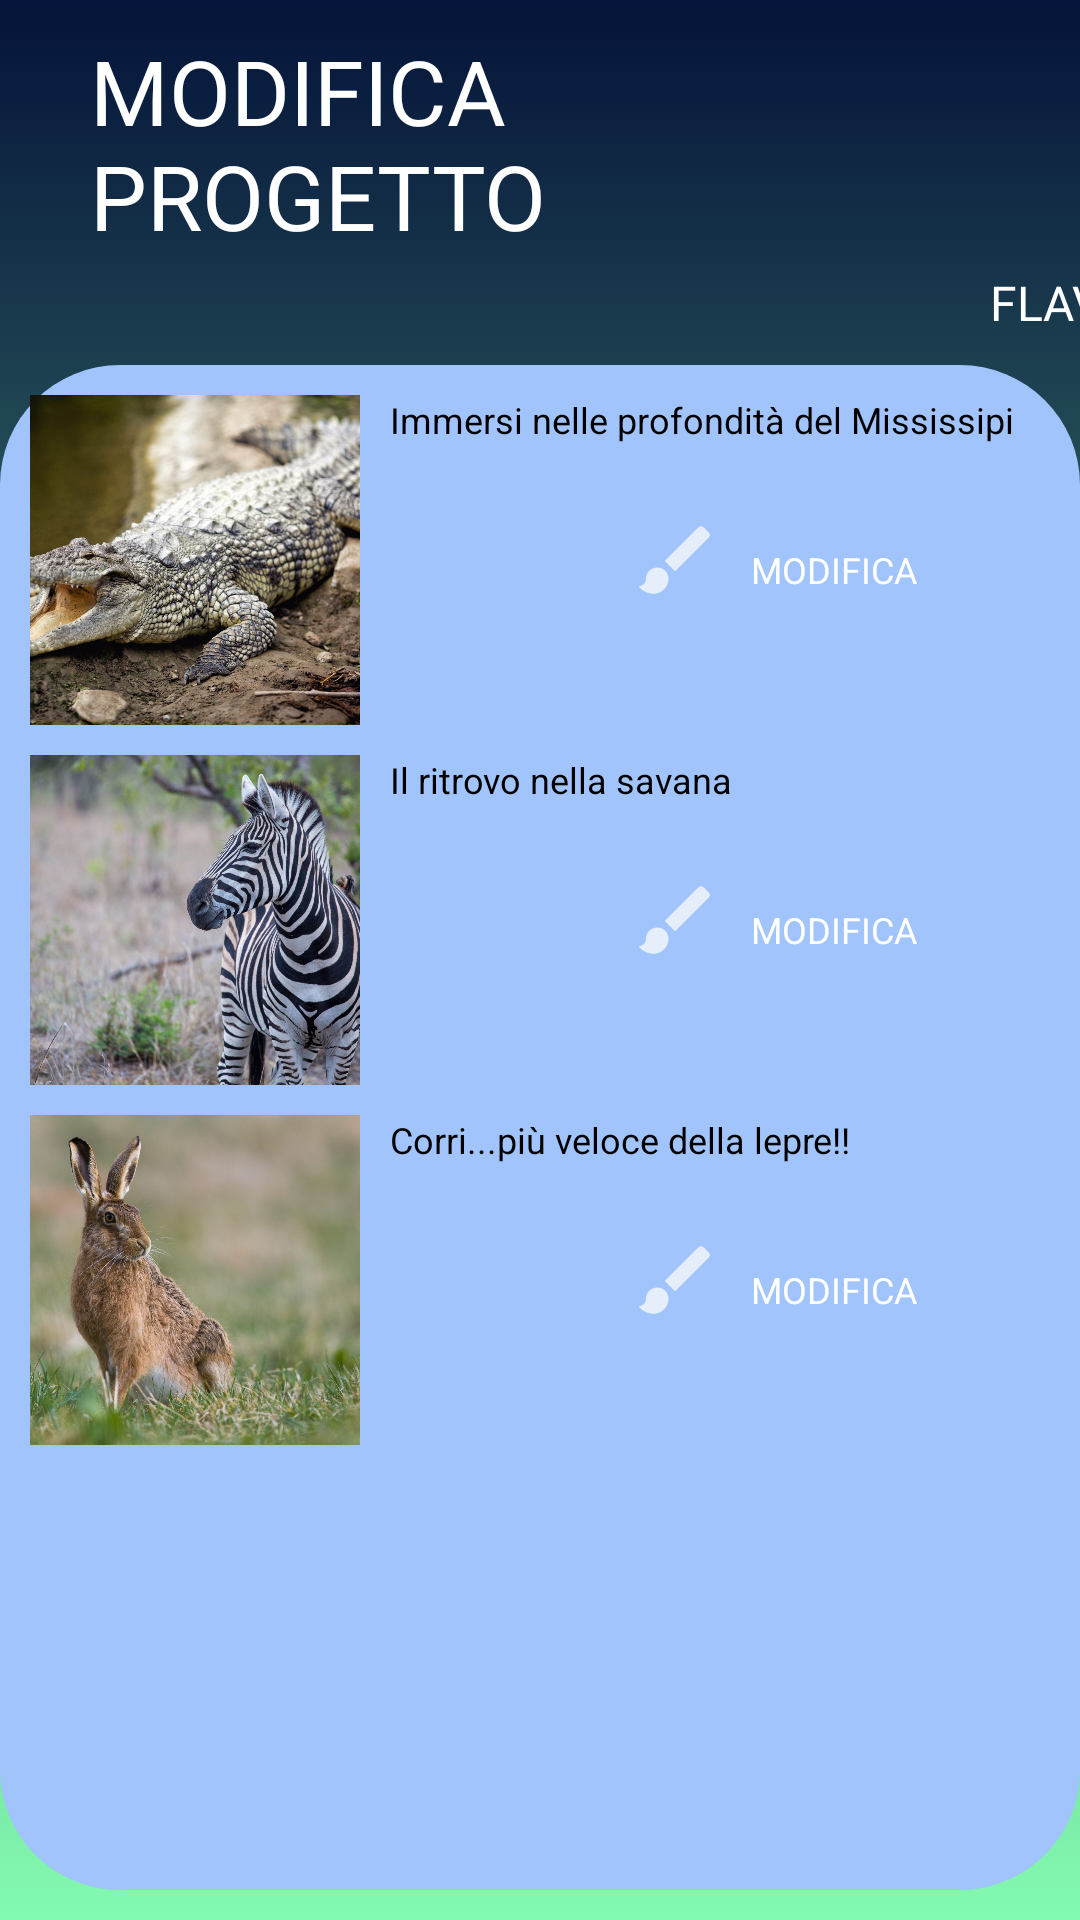

Icon bounding boxes for this 1080x1920 phone screenshot, format (x1, y1, x2, y2):
alligatmissisi: (30, 395, 360, 725)
zebra: (30, 755, 360, 1085)
